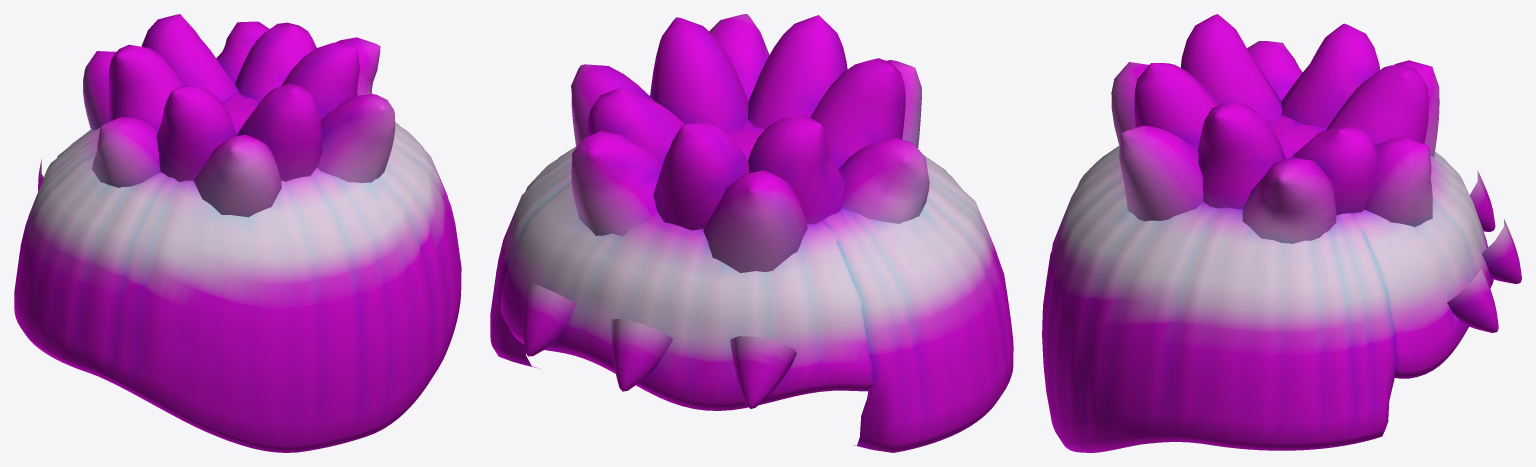
File: spiky.glb
The picture shows the model from 3 angles, left to right: view 1: azimuth 30°, elevation 25°; view 2: azimuth 150°, elevation 25°; view 3: azimuth 270°, elevation 25°; orthographic projection. The views are drawn at different scales.
Parts seen in each view (by area): view 1: spiky; view 2: spiky; view 3: spiky.
Boxes of the visible parts, x1,y1,x2,y2 form: spiky: (14,14,461,452); spiky: (490,14,1013,452); spiky: (1042,14,1521,452).
Bounding box in the file's own units: 0.9276 × 0.7239 × 0.873.
